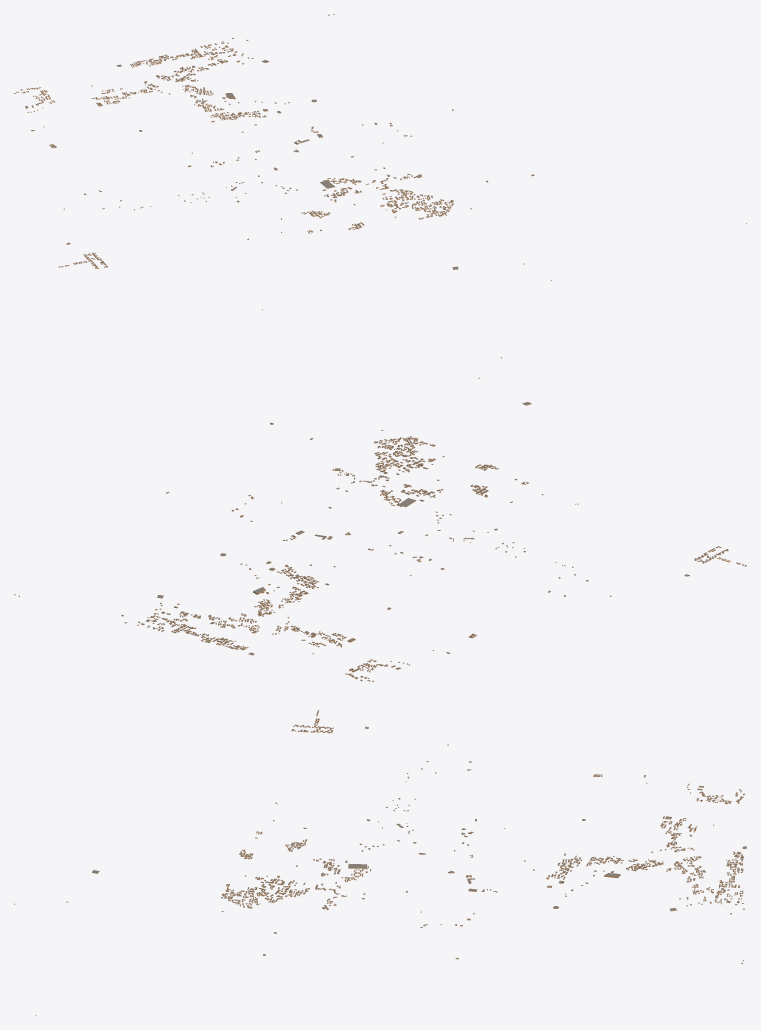
Rendered from dhule_blosm.glb.
3 views of the same model, one above another, from view 1: azimuth 30°, elevation 25°; view 2: azimuth 150°, elevation 25°; view 3: azimuth 270°, elevation 25° (orthographic). The views are drawn at different scales.
Parts seen in each view (by area): view 1: dhule_city.osm_buildings; view 2: dhule_city.osm_buildings; view 3: dhule_city.osm_buildings.
Boxes of the visible parts, x1,y1,x2,y2 form: dhule_city.osm_buildings: (14,14,746,280); dhule_city.osm_buildings: (14,309,746,681); dhule_city.osm_buildings: (14,710,746,1015).
Size of what is drawn, in the model's own units: 7010 by 13.78 by 7121.
